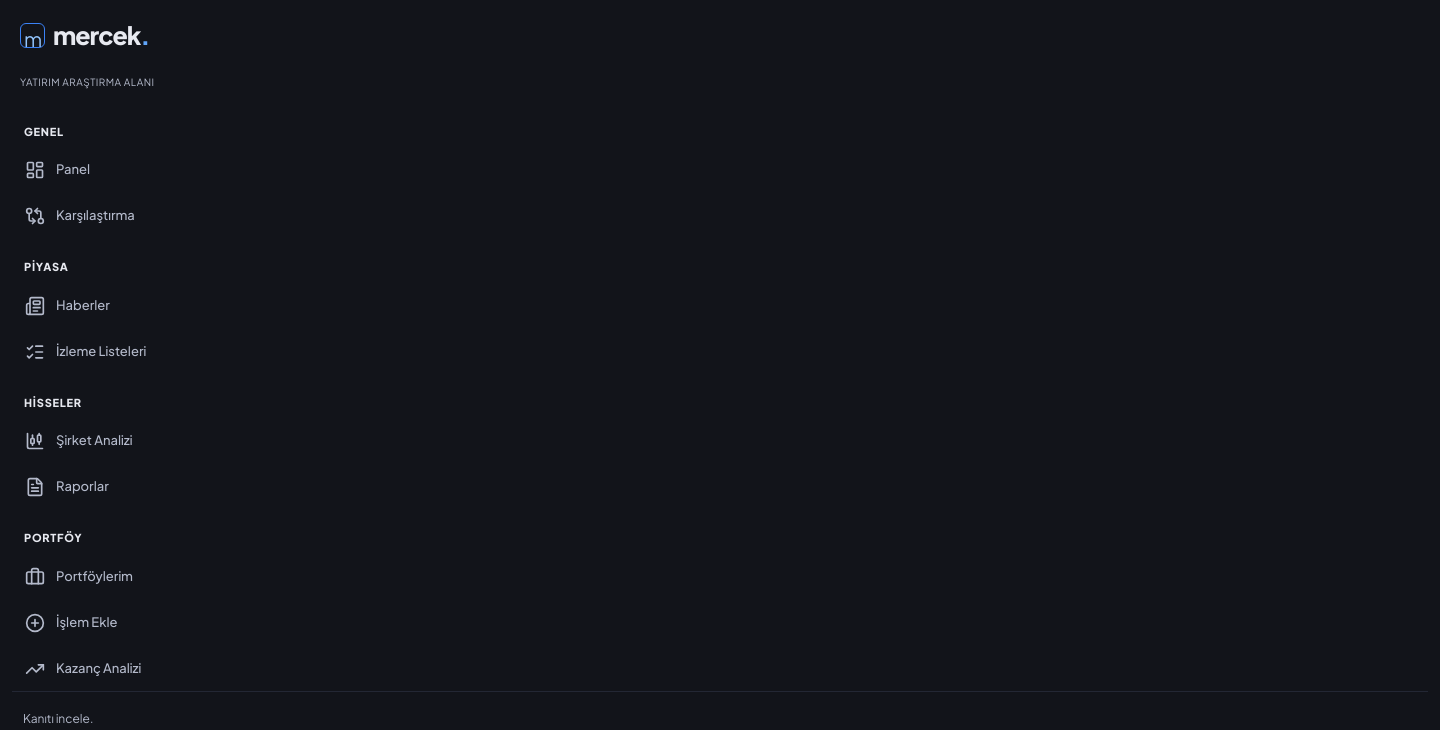
Test: LeftNav › renders every primary route link and navigates when clicked
The width and height of the screenshot is (1440, 730).
What coordinates should you click on to do the following:
click the link "İzleme Listeleri"
I would click on:
 (86, 352)
Its box is [25,342,146,362].
(page scrolled)
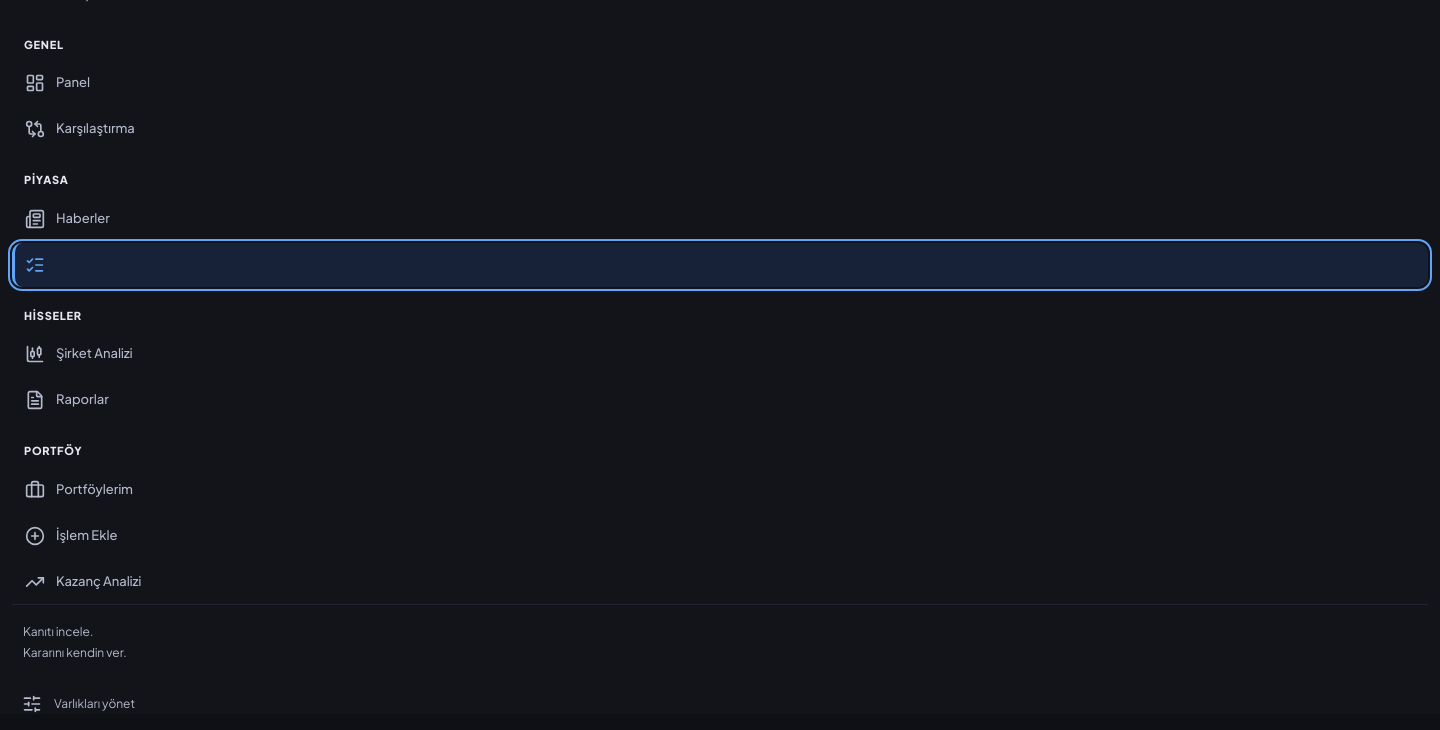
Check: the text with test id "location-path" reads "/watchlist", box [0,694,65,712]
